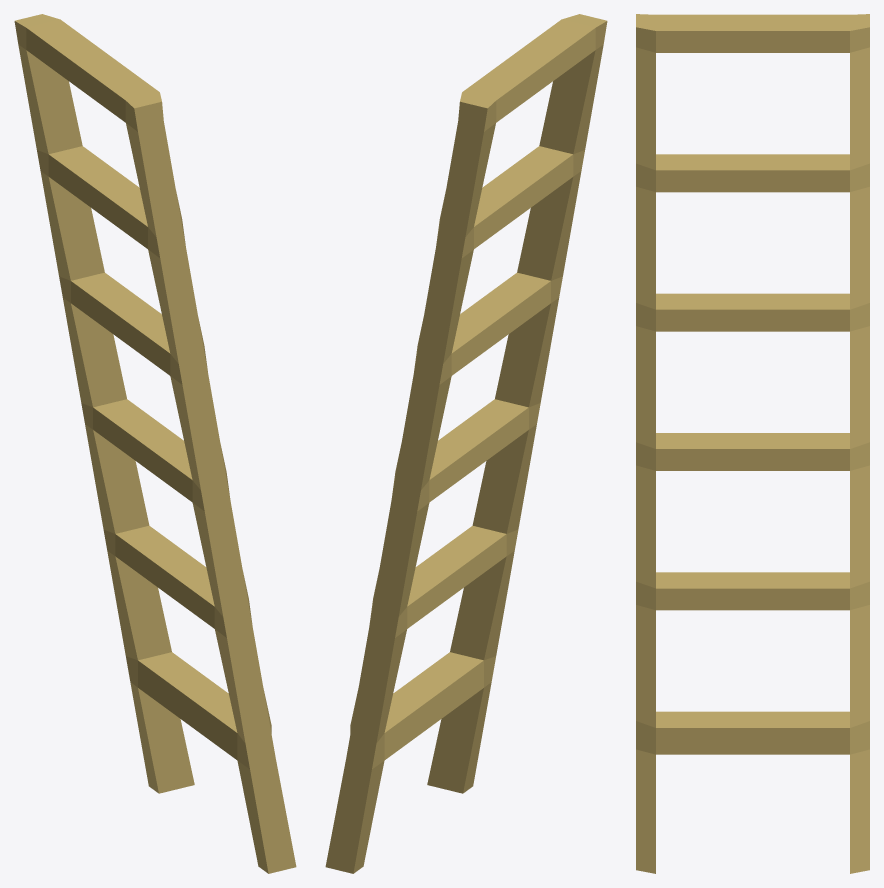
The model's file is Ladder_1.fbx.
3 renders of one model, left to right at view 1: azimuth 30°, elevation 25°; view 2: azimuth 150°, elevation 25°; view 3: azimuth 270°, elevation 25°, orthographic. The views are drawn at different scales.
Visible parts, largest first — view 1: Ladder; view 2: Ladder; view 3: Ladder.
Boxes of the visible parts, x1,y1,x2,y2 form: Ladder: [14, 14, 296, 873]; Ladder: [325, 14, 607, 873]; Ladder: [636, 14, 869, 873].
Size of the model in its own units: 89.23 by 400 by 109.
